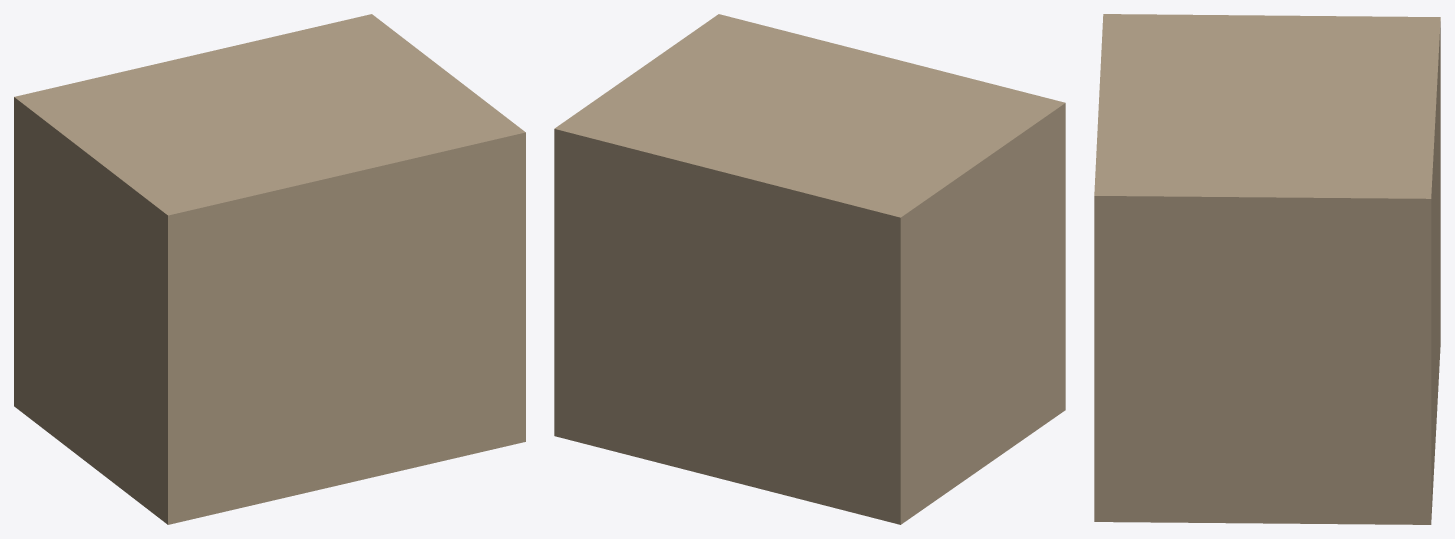
The model's file is bld_163484210.dae.
3 renders of one model, left to right at view 1: azimuth 30°, elevation 25°; view 2: azimuth 150°, elevation 25°; view 3: azimuth 270°, elevation 25°, orthographic. The views are drawn at different scales.
Parts seen in each view (by area): view 1: bld_163484210; view 2: bld_163484210; view 3: bld_163484210.
Part boxes in pixels (<box>): bld_163484210: <box>14,14,525,524</box>; bld_163484210: <box>554,14,1065,524</box>; bld_163484210: <box>1094,14,1440,524</box>.
Size of the model in its own units: 9.73 by 7.7 by 8.
